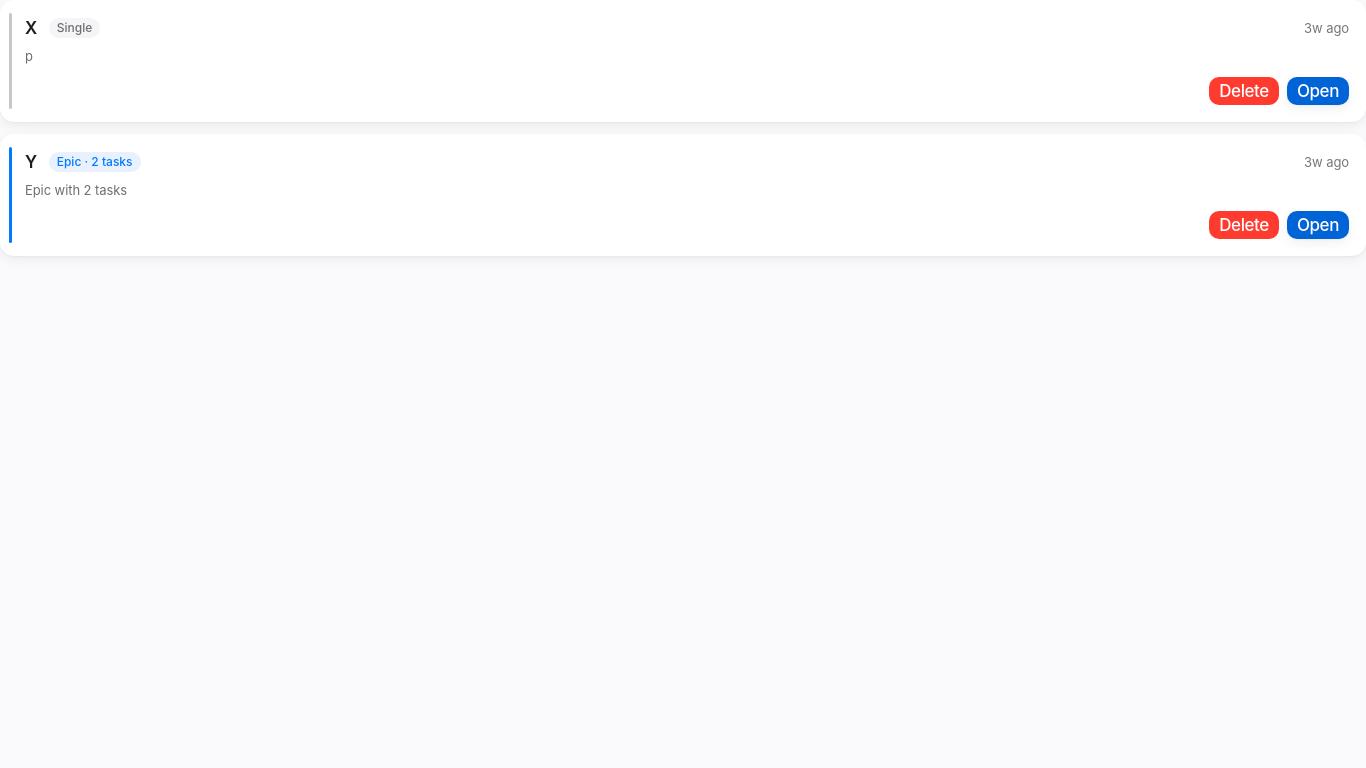
DraftsView › elevates the confirming card's wrapper above its siblings, and resets on cancel
Open the first card's confirm popover via ITS Delete button.
Click the 1st button "Delete" at (1244,91), box x1=1209 y1=77 x2=1279 y2=105
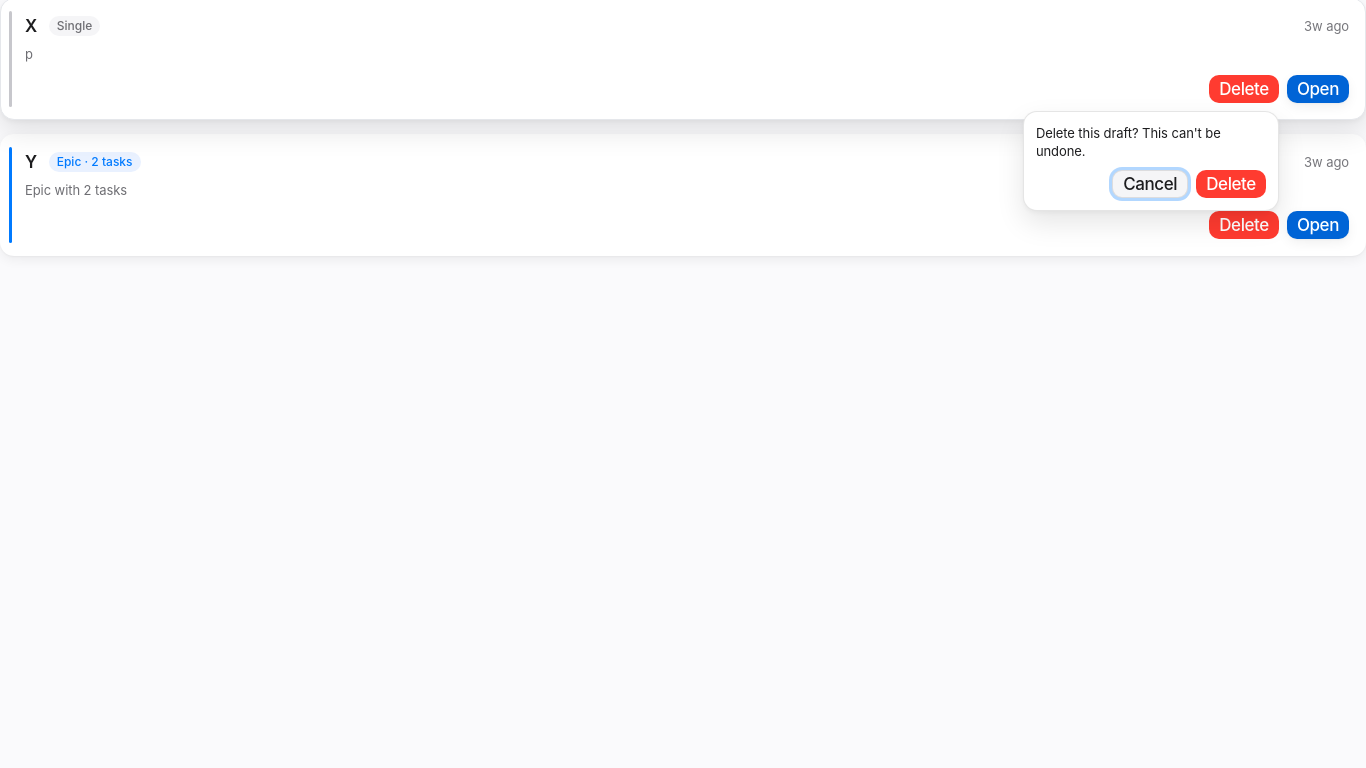
Check: the dialog is shown, box x1=1023 y1=111 x2=1279 y2=211
Cancelling closes the popover and resets the wrapper's stacking.
Click the button "Cancel" at (1150,184), box x1=1112 y1=170 x2=1188 y2=198
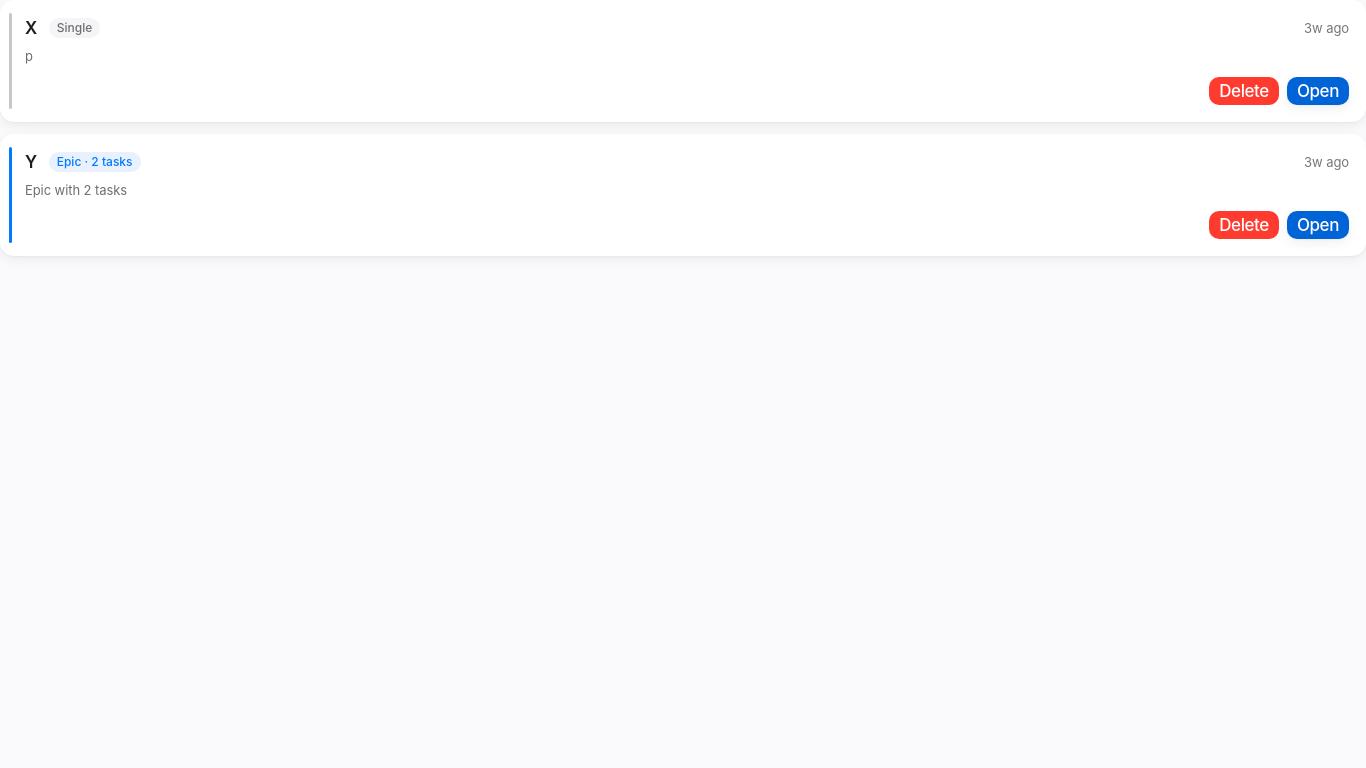
Check: the dialog is gone
